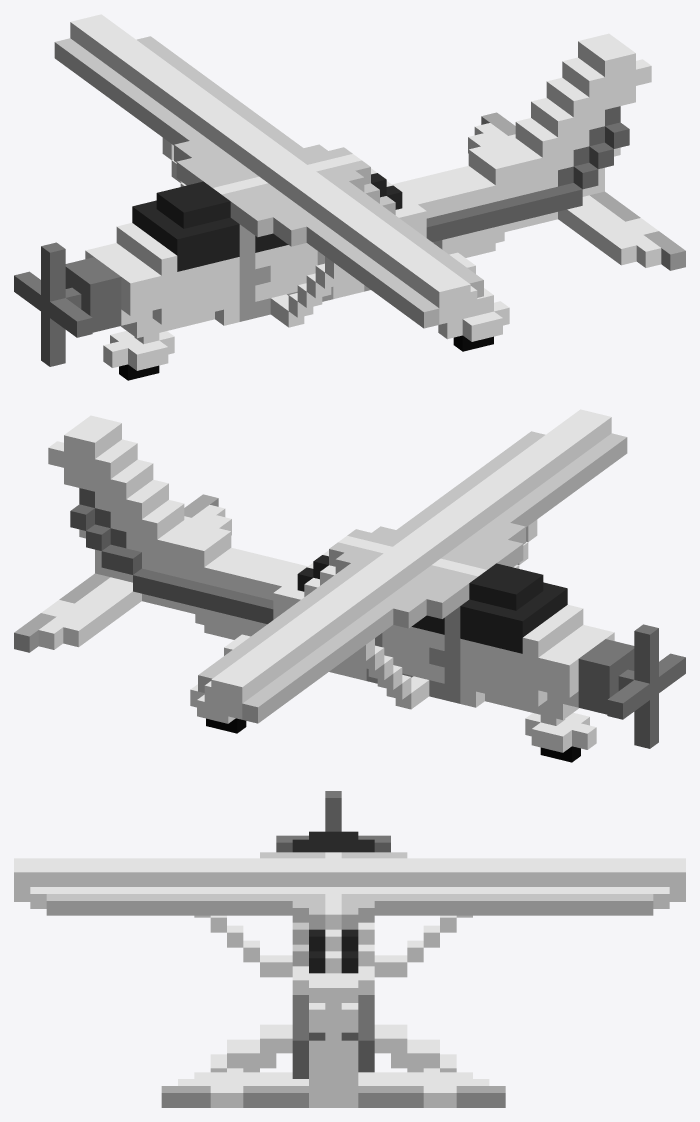
The model's file is Cessna.obj.
The picture shows the model from 3 angles, top to bottom: view 1: azimuth 30°, elevation 25°; view 2: azimuth 150°, elevation 25°; view 3: azimuth 270°, elevation 25°; orthographic projection. The views are drawn at different scales.
Visible parts, largest first — view 1: Cessna; view 2: Cessna; view 3: Cessna.
Part boxes in pixels (x1,y1,x2,y2): Cessna: (14,14,685,380); Cessna: (14,409,685,762); Cessna: (14,791,685,1107).
Bounding box in the file's own units: 38 × 13 × 41.
